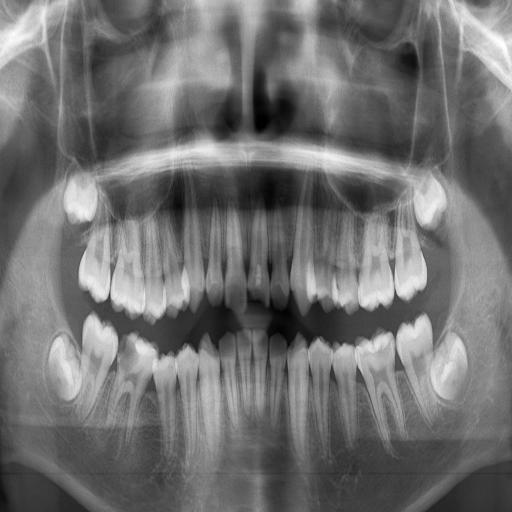Wisdom teeth: (430, 331, 467, 400), (48, 333, 81, 401), (413, 173, 446, 229), (63, 173, 97, 221)
